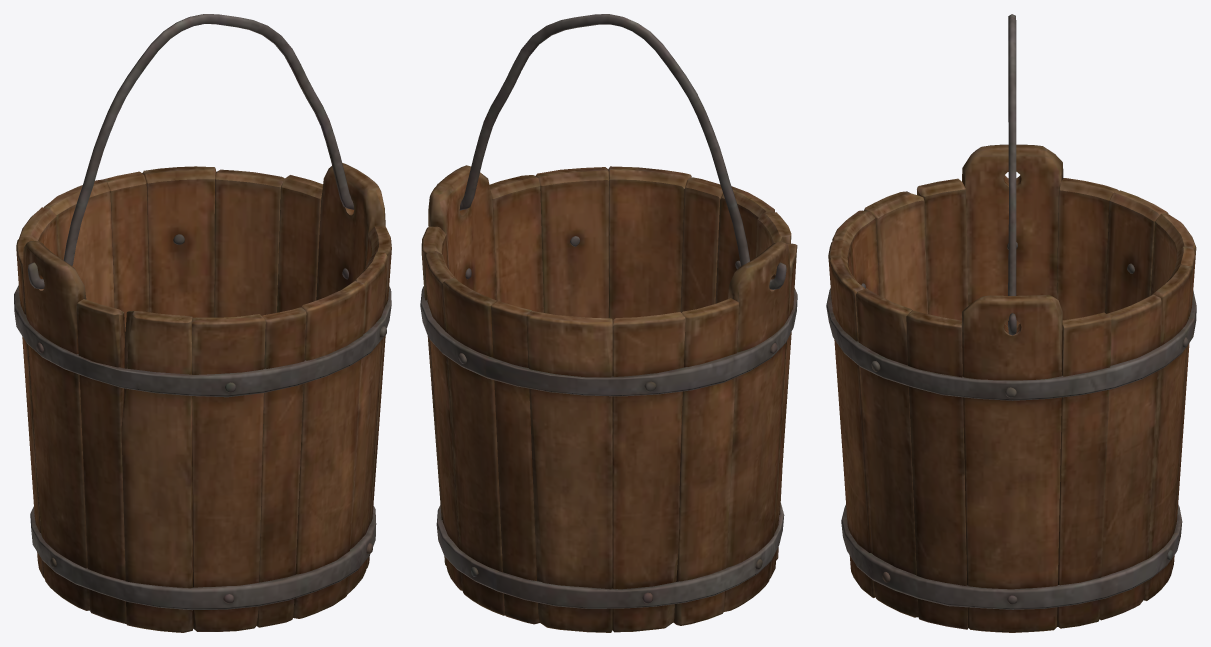
Rendered from wooden_bucket_01.glb.
The picture shows the model from 3 angles, left to right: view 1: azimuth 30°, elevation 25°; view 2: azimuth 150°, elevation 25°; view 3: azimuth 270°, elevation 25°; orthographic projection.
Visible parts, largest first — view 1: wooden_bucket_01, wooden_bucket_01_handle; view 2: wooden_bucket_01, wooden_bucket_01_handle; view 3: wooden_bucket_01, wooden_bucket_01_handle.
Part boxes in pixels (x1,y1,x2,y2): wooden_bucket_01: (14, 163, 391, 632); wooden_bucket_01_handle: (27, 14, 354, 289); wooden_bucket_01: (420, 165, 797, 632); wooden_bucket_01_handle: (437, 14, 786, 289); wooden_bucket_01: (826, 144, 1196, 632); wooden_bucket_01_handle: (1008, 14, 1016, 335).
Size of the model in its own units: 0.367 by 0.5499 by 0.3422.
Materials: 1 (1 with a texture image).
